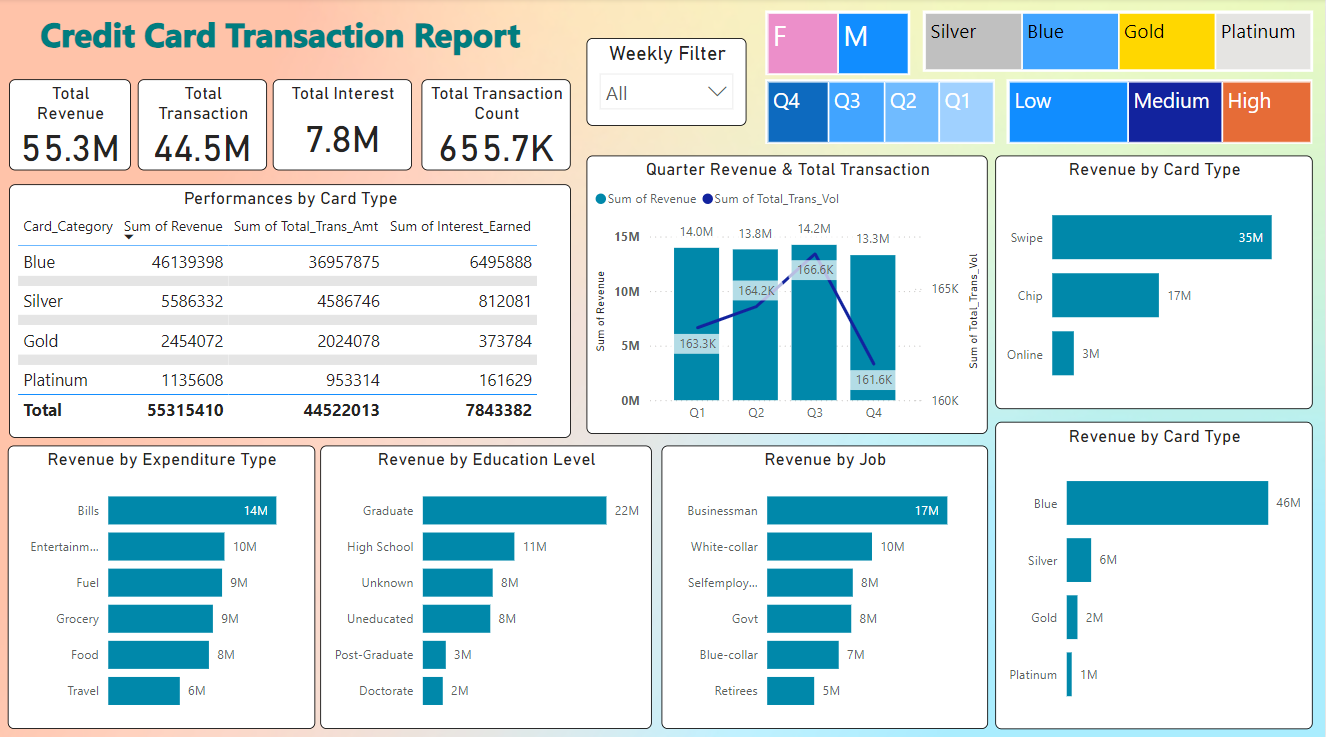

This screenshot's page, from the dashboard's own definition file:
{"tool":"powerbi","page":{"name":"Credit Card Transaction","canvas":[1280,720],"ordinal":0},"visuals":[{"type":"textbox","box":[9.7,8.4,523.6,62.7],"z":0},{"type":"lineStackedColumnComboChart","title":"Quarter Revenue & Total Transaction","fields":{"Y":["Sum(credit_card.Revenue)"],"Category":["credit_card.Qtr"],"Y2":["Sum(credit_card.Total_Trans_Vol)"]},"box":[566.7,151.7,387.5,269.2],"z":1000},{"type":"barChart","title":"Revenue by Expenditure Type","fields":{"Y":["Sum(credit_card.Revenue)"],"Category":["credit_card.Exp Type"]},"box":[8.6,432.5,296.5,273.2],"z":2000},{"type":"barChart","title":"Revenue by Education Level","fields":{"Y":["Sum(credit_card.Revenue)"],"Category":["customer.Education_Level"]},"box":[310,432.5,319.8,273.2],"z":3000},{"type":"barChart","title":"Revenue by Job","fields":{"Y":["Sum(credit_card.Revenue)"],"Category":["customer.Customer_Job"]},"box":[639.5,432.5,314.9,273.2],"z":4000},{"type":"barChart","title":"Revenue by Card Type","fields":{"Category":["credit_card.Card_Category"],"Y":["Sum(credit_card.Revenue)"]},"box":[961.5,409,306.4,296.8],"z":5000},{"type":"barChart","title":"Revenue by Card Type","fields":{"Category":["credit_card.Use Chip"],"Y":["Sum(credit_card.Revenue)"]},"box":[961.5,152,306.4,244.9],"z":6000},{"type":"tableEx","title":"Performances by Card Type","fields":{"Values":["credit_card.Card_Category","Sum(credit_card.Revenue)","Sum(credit_card.Total_Trans_Amt)","Sum(credit_card.Interest_Earned)"]},"box":[10,179.2,542.5,245],"z":7000},{"type":"card","title":"Total Revenue","fields":{"Values":["Sum(credit_card.Revenue)"]},"box":[9.6,78.7,117.6,88.2],"z":8000},{"type":"card","title":"Total Transaction","fields":{"Values":["Sum(credit_card.Total_Trans_Amt)"]},"box":[133.3,78.3,125,88.3],"z":9000},{"type":"card","title":"Total Interest","fields":{"Values":["Sum(credit_card.Interest_Earned)"]},"box":[264.2,78.3,134.2,88.3],"z":10000},{"type":"card","title":"Total Transaction Count","fields":{"Values":["Sum(credit_card.Total_Trans_Vol)"]},"box":[408.3,78.3,144.2,88.3],"z":11000},{"type":"slicer","title":"Weekly Filter","fields":{"Values":["credit_card.Week_Start_Date"]},"box":[567,38.6,154.4,84.5],"z":12000},{"type":"treemap","fields":{"Group":["credit_card.Qtr"],"Values":["Avg(credit_card.Client_Num)"]},"box":[739.5,78.4,222,62.7],"z":13000},{"type":"treemap","fields":{"Group":["customer.Gender"],"Values":["Avg(credit_card.Client_Num)"]},"box":[739.5,12.1,139.9,62.7],"z":14000},{"type":"treemap","fields":{"Group":["credit_card.Card_Category"],"Values":["Avg(credit_card.Client_Num)"]},"box":[891.6,12.1,376.4,59.1],"z":15000},{"type":"treemap","fields":{"Group":["customer.IncomeGroup"],"Values":["Sum(credit_card.Client_Num)"]},"box":[972.4,78.4,295.6,62.7],"z":16000}]}

Visuals, with their boxes in screenshot pixels (x1, y1, x2, y2), scaled from the page's 1280x720 canvas onto the 1326x737 screenshot:
textbox: [10,9,552,73]
"Quarter Revenue & Total Transaction" lineStackedColumnComboChart: [587,155,988,431]
"Revenue by Expenditure Type" barChart: [9,443,316,722]
"Revenue by Education Level" barChart: [321,443,652,722]
"Revenue by Job" barChart: [662,443,989,722]
"Revenue by Card Type" barChart: [996,419,1313,722]
"Revenue by Card Type" barChart: [996,156,1313,406]
"Performances by Card Type" tableEx: [10,183,572,434]
"Total Revenue" card: [10,81,132,171]
"Total Transaction" card: [138,80,268,171]
"Total Interest" card: [274,80,413,171]
"Total Transaction Count" card: [423,80,572,171]
"Weekly Filter" slicer: [587,40,747,126]
treemap - credit_card.Qtr x Avg(credit_card.Client_Num): [766,80,996,144]
treemap - customer.Gender x Avg(credit_card.Client_Num): [766,12,911,77]
treemap - credit_card.Card_Category x Avg(credit_card.Client_Num): [924,12,1314,73]
treemap - customer.IncomeGroup x Sum(credit_card.Client_Num): [1007,80,1314,144]
